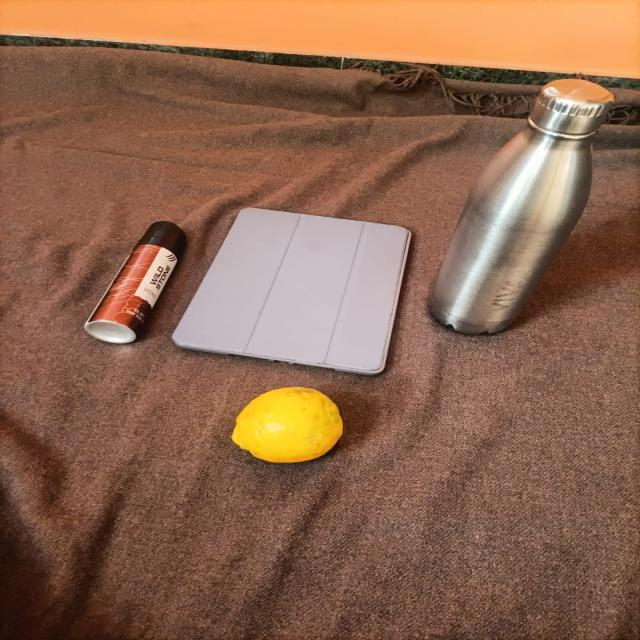bottle: (428, 28, 615, 353)
orange: (217, 389, 356, 474)
spray: (57, 194, 193, 357)
tablet: (179, 173, 415, 383)
